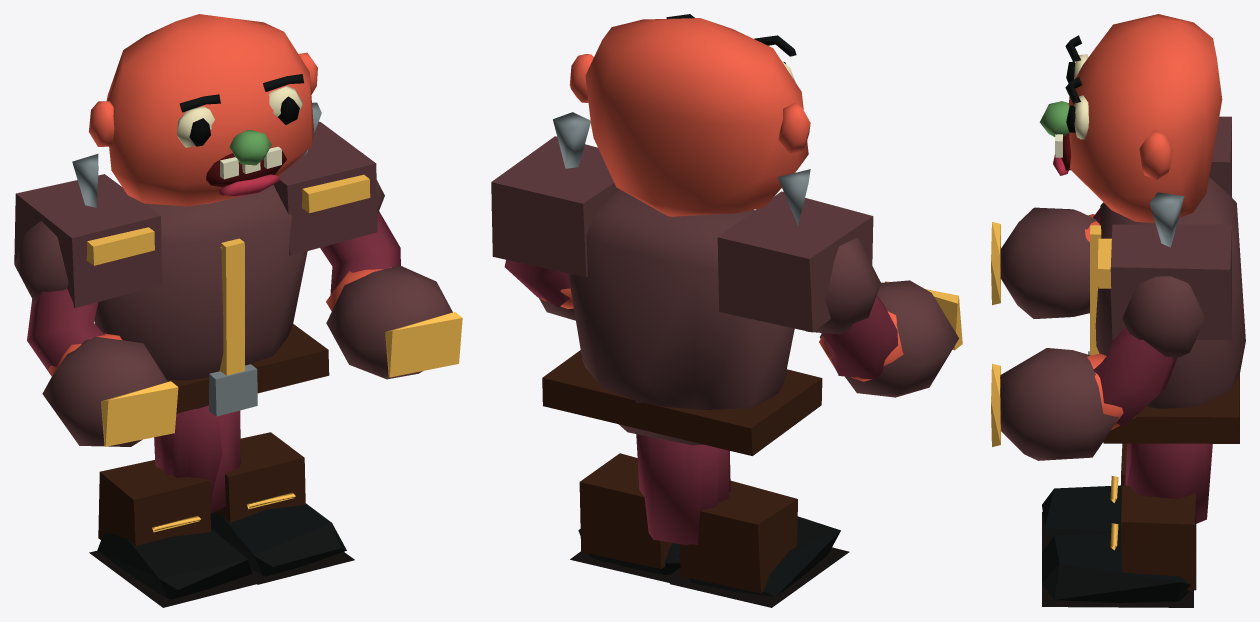
File: elite-lod.glb
3 renders of one model, left to right at view 1: azimuth 30°, elevation 25°; view 2: azimuth 150°, elevation 25°; view 3: azimuth 270°, elevation 25°, orthographic. The views are drawn at different scales.
Parts seen in each view (by area): view 1: Arms, Head, Body, LegL, LegR; view 2: Arms, Body, Head, LegL, LegR; view 3: Arms, Head, LegR, Body, LegL.
Part boxes in pixels (x1,y1,x2,y2): Arms: (14, 102, 462, 446); Head: (88, 14, 317, 206); Body: (94, 184, 329, 416); LegL: (89, 410, 260, 607); LegR: (160, 405, 354, 584); Arms: (491, 112, 962, 397); Body: (542, 189, 822, 455); Head: (569, 14, 810, 216); LegL: (636, 434, 849, 607); LegR: (570, 434, 728, 583); Arms: (991, 116, 1231, 460); Head: (1039, 14, 1222, 222); LegR: (1042, 443, 1207, 607); Body: (1088, 177, 1245, 443); LegL: (1042, 443, 1212, 551).
Size of the model in its own units: 0.9229 by 1.16 by 0.5012.
1 material, 1 textured.
